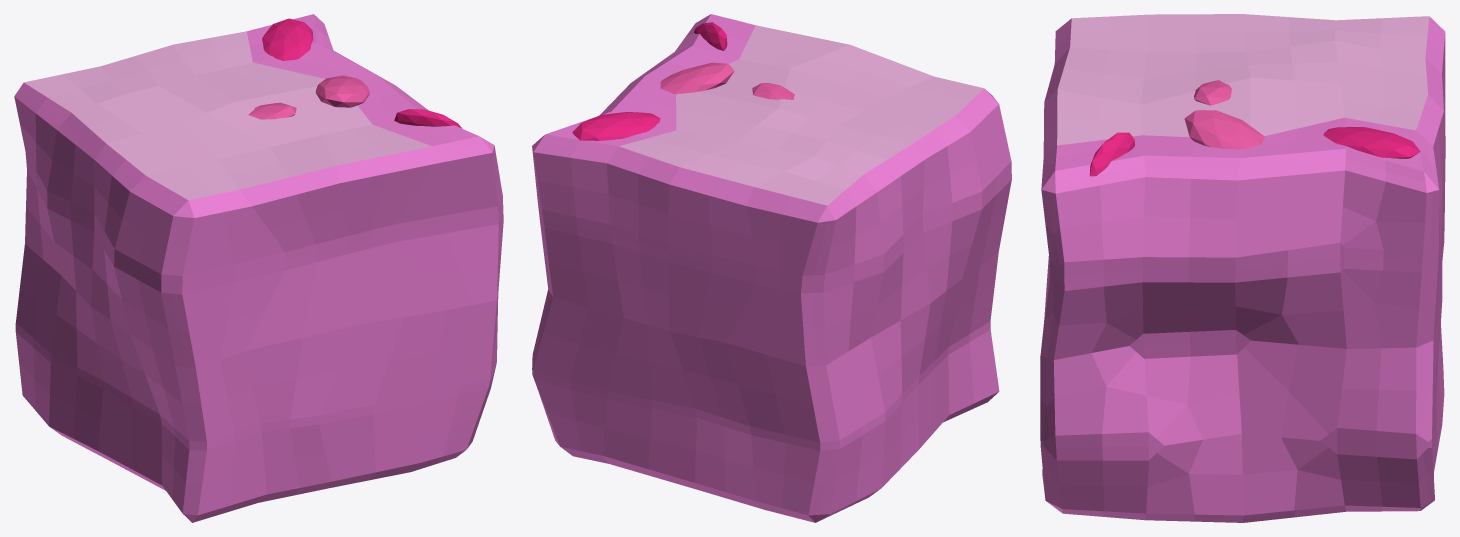
3 renders of one model, left to right at view 1: azimuth 30°, elevation 25°; view 2: azimuth 150°, elevation 25°; view 3: azimuth 270°, elevation 25°, orthographic. The views are drawn at different scales.
Parts seen in each view (by area): view 1: Cube, Icosphere.001, Icosphere, Icosphere.002, Icosphere.003; view 2: Cube, Icosphere.001, Icosphere, Icosphere.002, Icosphere.003; view 3: Cube, Icosphere, Icosphere.001, Icosphere.002, Icosphere.003.
Boxes of the visible parts, x1,y1,x2,y2 form: Cube: (14, 14, 503, 522); Icosphere.001: (262, 18, 313, 60); Icosphere: (315, 75, 369, 107); Icosphere.002: (394, 109, 462, 128); Icosphere.003: (248, 102, 296, 119); Cube: (532, 14, 1011, 522); Icosphere.001: (572, 112, 660, 140); Icosphere: (660, 62, 734, 94); Icosphere.002: (693, 22, 727, 50); Icosphere.003: (752, 83, 794, 99); Cube: (1040, 14, 1445, 522); Icosphere: (1184, 110, 1264, 149); Icosphere.001: (1323, 127, 1420, 158); Icosphere.002: (1089, 132, 1134, 176); Icosphere.003: (1194, 80, 1231, 105).
Size of the model in its own units: 227 by 212 by 206.
